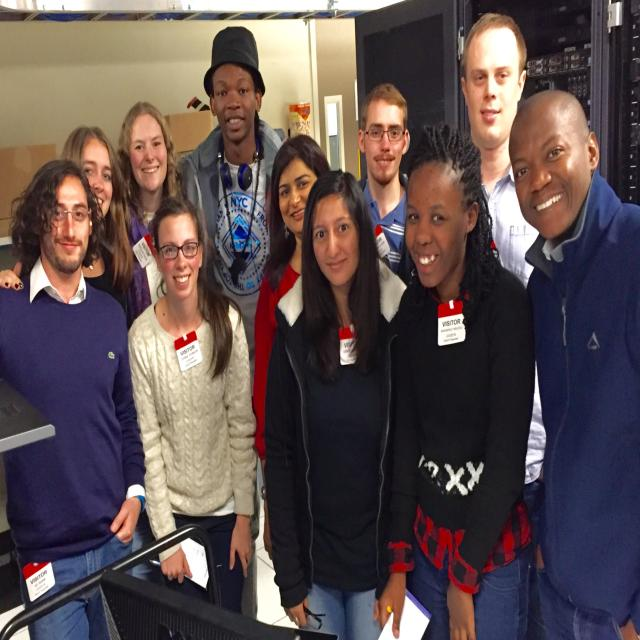body: (386, 123, 539, 640), (508, 88, 640, 640), (0, 156, 148, 640), (264, 169, 401, 640), (459, 13, 550, 640), (126, 195, 258, 616), (177, 26, 286, 416), (250, 133, 334, 568), (0, 123, 135, 331), (115, 99, 186, 328), (355, 82, 416, 288)
